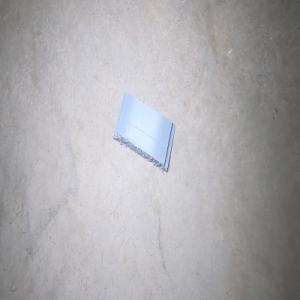PlasticPart: (112, 91, 175, 173)
